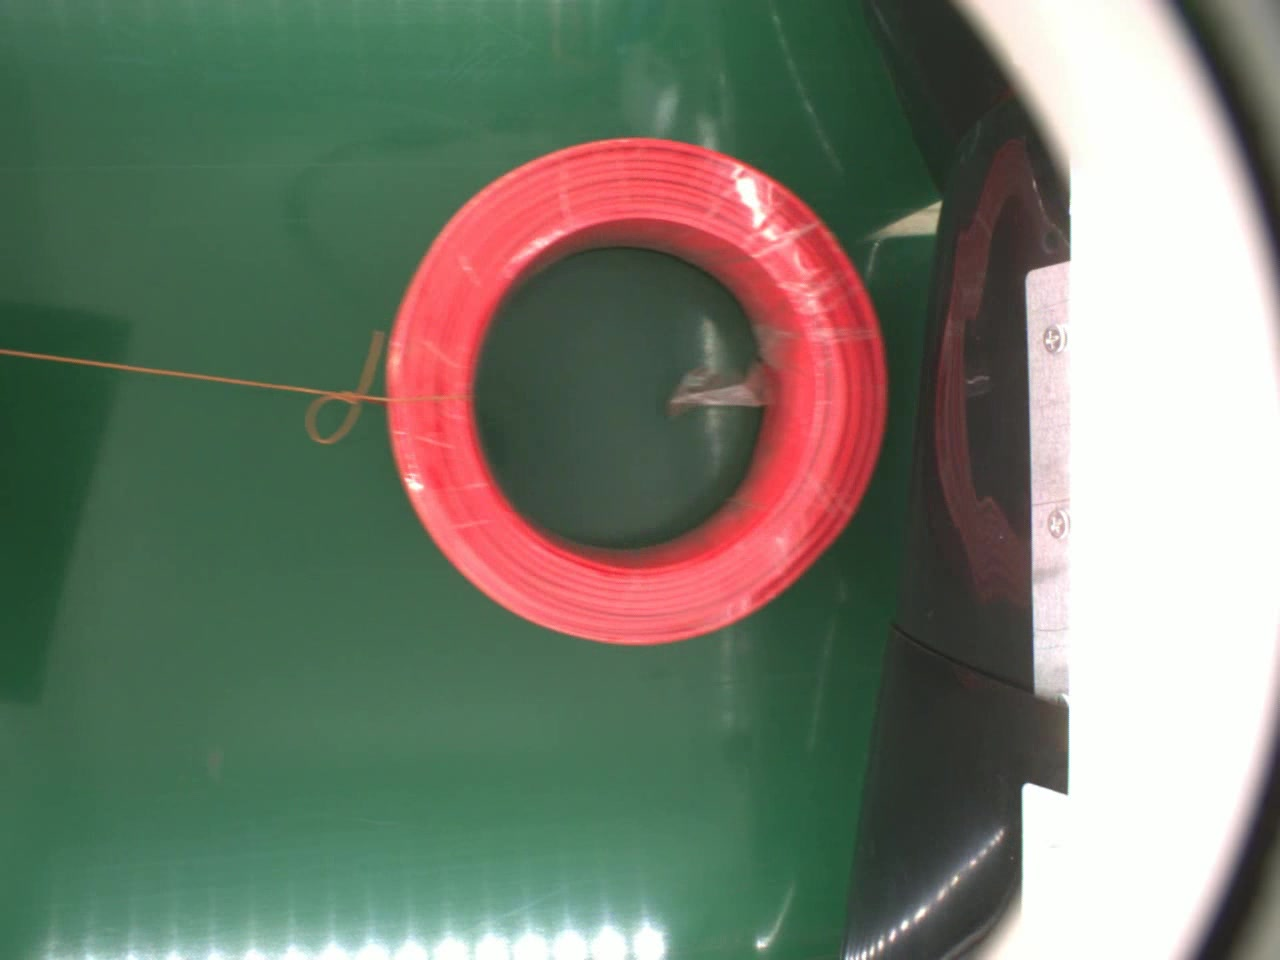red: (382, 130, 890, 647)
